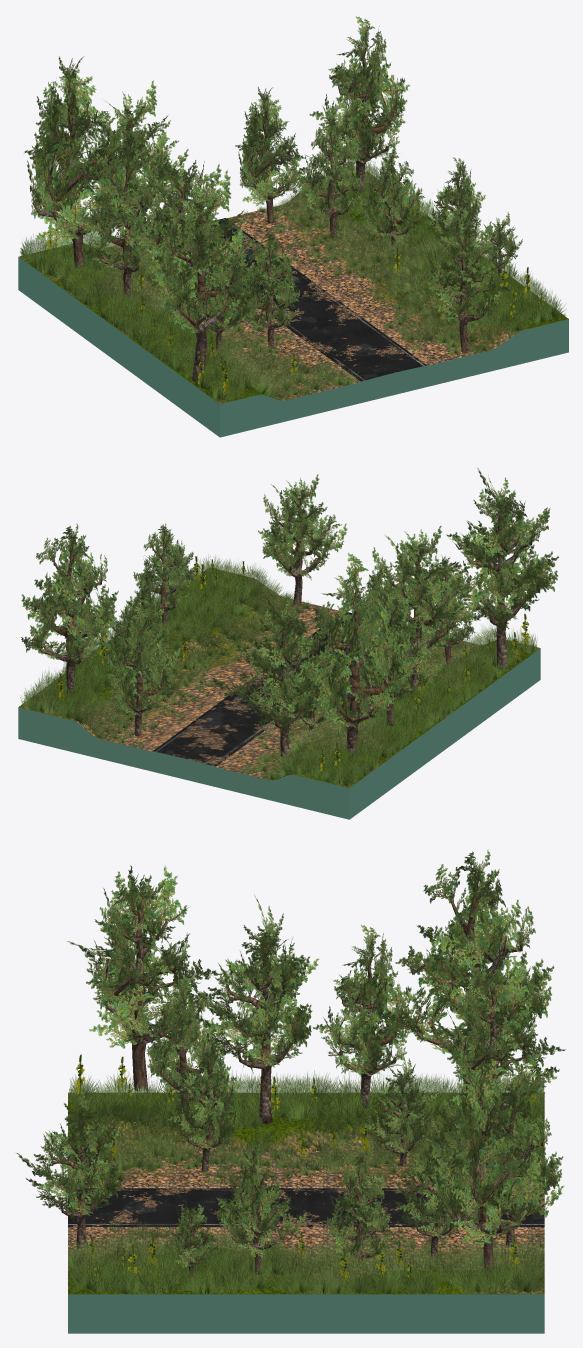
File: hiden_road_diorama.glb
3 views of the same model, one above another, from view 1: azimuth 30°, elevation 25°; view 2: azimuth 150°, elevation 25°; view 3: azimuth 270°, elevation 25° (orthographic). The views are drawn at different scales.
Visible parts, largest first — view 1: Trees, Grass, Ground, BgCutOut, Road, Flowers; view 2: Trees, Grass, Ground, BgCutOut, Road, Flowers; view 3: Trees, Grass, Ground, BgCutOut, Road, Flowers.
Part boxes in pixels (x1,y1,x2,y2): Trees: (24, 16, 522, 381); Grass: (20, 161, 565, 401); Ground: (19, 172, 568, 403); BgCutOut: (18, 257, 568, 437); Road: (192, 218, 426, 381); Flowers: (45, 159, 543, 395); Trees: (21, 468, 558, 757); Grass: (20, 555, 537, 786); Ground: (18, 567, 540, 787); BgCutOut: (18, 648, 540, 819); Road: (153, 612, 353, 766); Flowers: (57, 556, 530, 772); Trees: (16, 849, 565, 1280); Grass: (67, 1070, 544, 1293); Ground: (68, 1092, 544, 1294); BgCutOut: (68, 1294, 544, 1333); Road: (68, 1188, 544, 1226); Flowers: (74, 1054, 537, 1286).
Size of the model in its own units: 4.73 by 2.75 by 4.66.
4 materials, 3 textured.
